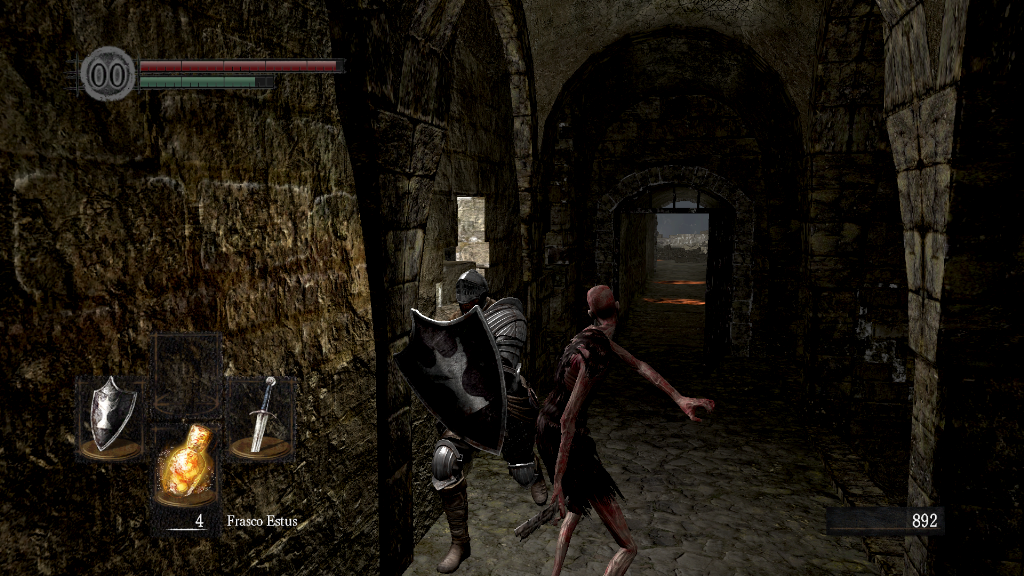health: (138, 58, 343, 71)
hollow: (538, 282, 717, 576)
humanity: (80, 45, 136, 102)
player: (384, 268, 551, 573)
souls: (825, 506, 945, 536)
stamina: (138, 74, 274, 88)
